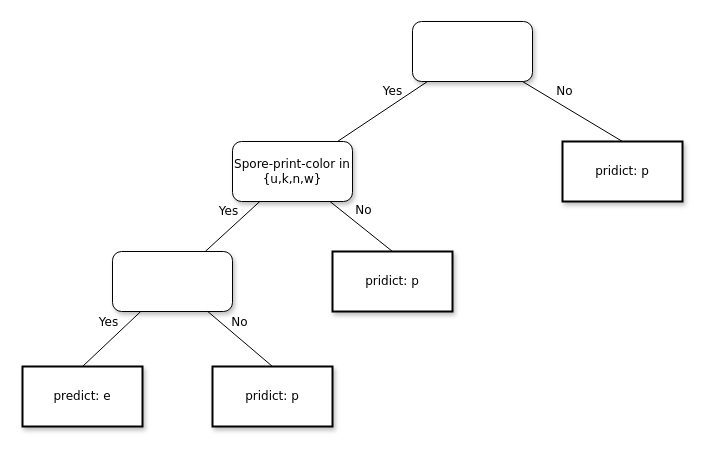
This 706x452 diagram has some shape labels left out. The shapes that lost their labels are listed below. From the top down, each one's centre as x and y in pixels, then its label:
the point at 473,52: Odor in {m,a,l,n}
the point at 173,282: Population in {a,y,s,n,v}
